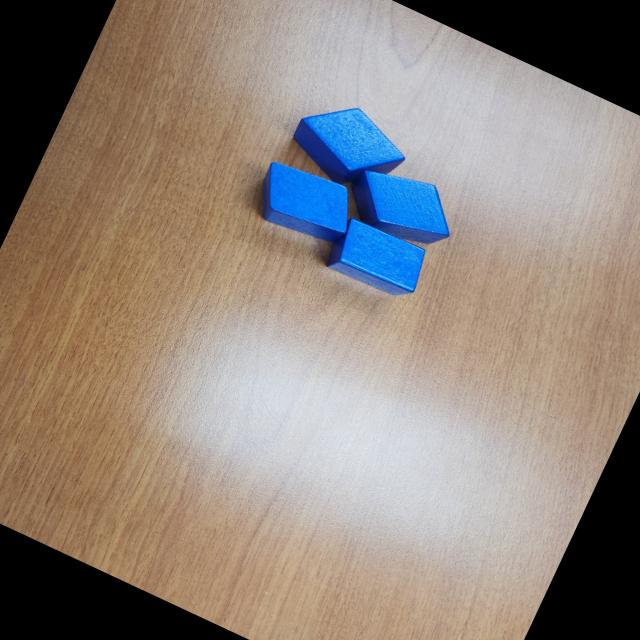blue: (281, 86, 418, 207), (340, 154, 468, 259), (246, 154, 364, 256), (322, 212, 433, 306)
